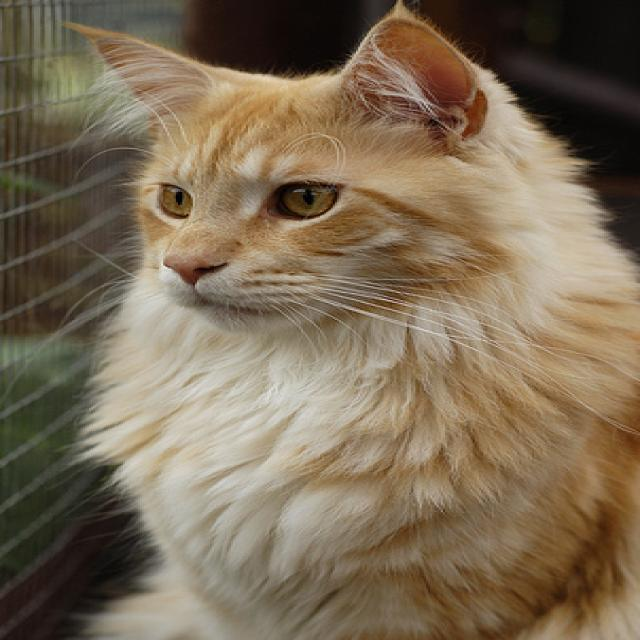Maine Coon: (72, 4, 640, 640)
